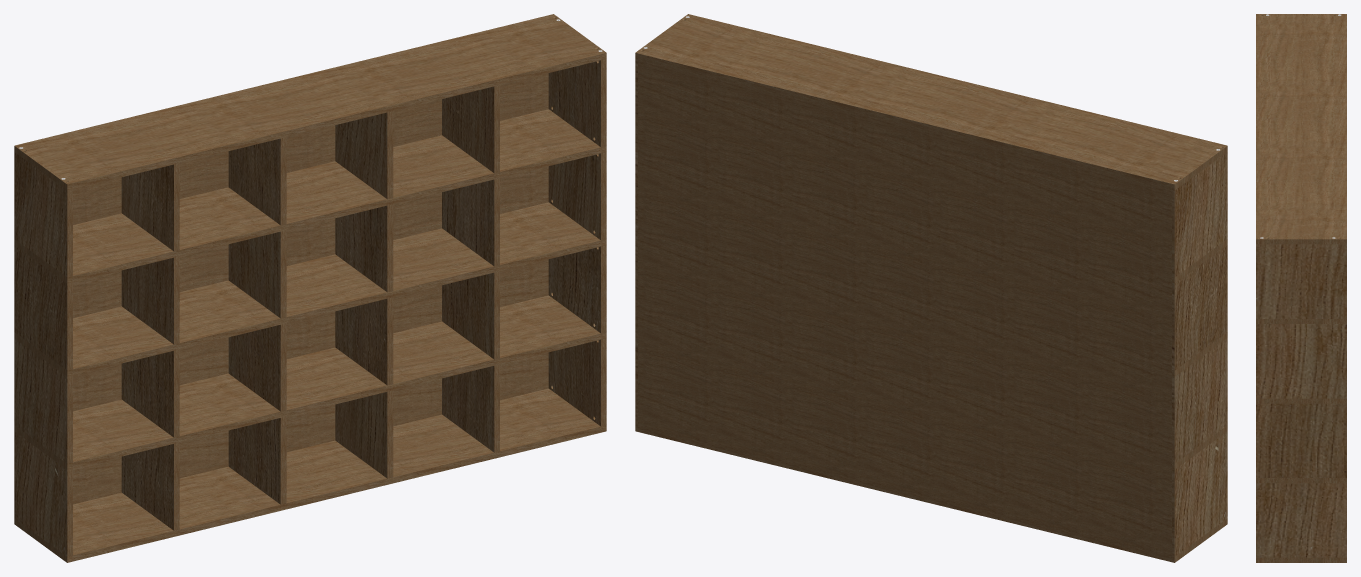
Rendered from assy8.fbx.
The picture shows the model from 3 angles, left to right: view 1: azimuth 30°, elevation 25°; view 2: azimuth 150°, elevation 25°; view 3: azimuth 270°, elevation 25°; orthographic projection. The views are drawn at different scales.
Parts seen in each view (by area): view 1: backboard, Solid1:2, Solid1:1, Solid1:3, Solid1:4, Solid1:5, Solid1:22, Solid1:24, Solid1:26, Solid1:28, Solid1:16, Solid1:8 (+18 smaller); view 2: backboard, Solid1:2, Solid1:22, Solid1:24, Solid1:26, Solid1:28, Solid1:1; view 3: Solid1:2, Solid1:23, Solid1:25, Solid1:27, Solid1:29, Solid1:1, Solid1:3, Solid1:4, Solid1:5.
Part boxes in pixels (box(x1,y1,x2,y2)): backboard: box(73, 73, 548, 504); Solid1:2: box(14, 14, 606, 190); Solid1:1: box(14, 388, 606, 562); Solid1:3: box(14, 295, 606, 469); Solid1:4: box(14, 202, 606, 376); Solid1:5: box(14, 109, 606, 283); Solid1:22: box(14, 431, 72, 556); Solid1:24: box(14, 338, 72, 463); Solid1:26: box(14, 245, 72, 370); Solid1:28: box(14, 152, 72, 277); Solid1:16: box(335, 204, 393, 292); Solid1:8: box(335, 390, 393, 478); backboard: box(638, 56, 1171, 558); Solid1:2: box(635, 14, 1227, 190); Solid1:22: box(1172, 431, 1227, 556); Solid1:24: box(1172, 338, 1227, 463); Solid1:26: box(1172, 245, 1227, 370); Solid1:28: box(1172, 152, 1227, 277); Solid1:1: box(635, 425, 1227, 562); Solid1:2: box(1256, 14, 1346, 244); Solid1:23: box(1256, 483, 1346, 557); Solid1:25: box(1256, 403, 1346, 477); Solid1:27: box(1256, 324, 1346, 398); Solid1:29: box(1256, 244, 1346, 318); Solid1:1: box(1256, 557, 1346, 562); Solid1:3: box(1256, 478, 1346, 483); Solid1:4: box(1256, 398, 1346, 403); Solid1:5: box(1256, 319, 1346, 323).
Bounding box in the file's own units: 31500 × 185000 × 124000.
4 materials, 3 textured.
